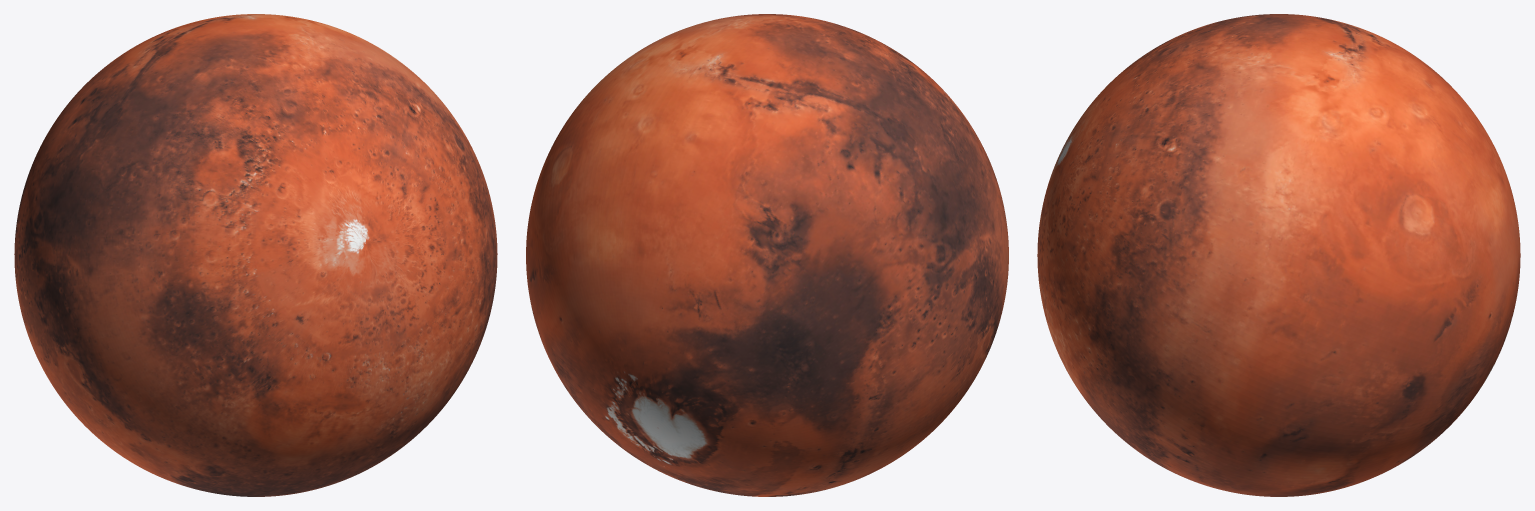
File: mars.glb
3 renders of one model, left to right at view 1: azimuth 30°, elevation 25°; view 2: azimuth 150°, elevation 25°; view 3: azimuth 270°, elevation 25°, orthographic.
Visible parts, largest first — view 1: Sphere; view 2: Sphere; view 3: Sphere.
Part boxes in pixels (left/top/right/bottom): Sphere: left=14, top=14, right=497, bottom=496; Sphere: left=526, top=14, right=1008, bottom=496; Sphere: left=1037, top=14, right=1520, bottom=496.
Size of the model in its own units: 130 by 130 by 130.
3 materials, 1 textured.
